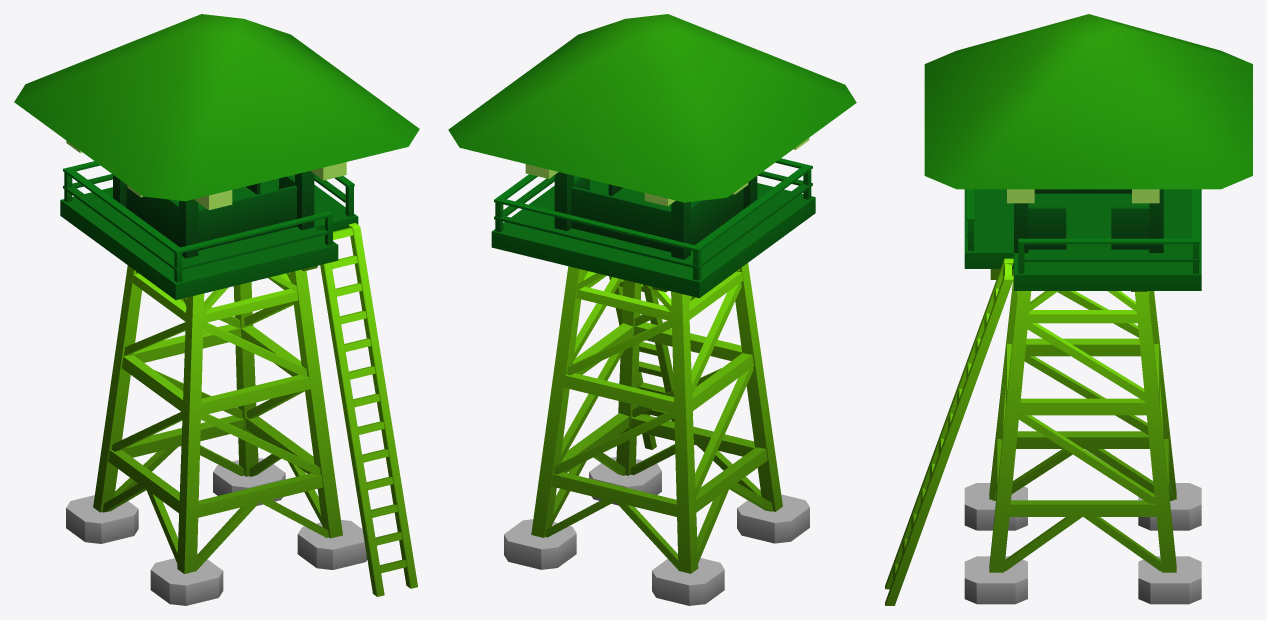
Rendered from Prop_Army_Watch_Tower_01.fbx.
3 views of the same model, side by side, from view 1: azimuth 30°, elevation 25°; view 2: azimuth 150°, elevation 25°; view 3: azimuth 270°, elevation 25° (orthographic). The views are drawn at different scales.
Parts seen in each view (by area): view 1: Prop_Army_Watch_Tower_01; view 2: Prop_Army_Watch_Tower_01; view 3: Prop_Army_Watch_Tower_01.
Part boxes in pixels (left/top/right/bottom): Prop_Army_Watch_Tower_01: left=14, top=14, right=419, bottom=605; Prop_Army_Watch_Tower_01: left=448, top=14, right=856, bottom=605; Prop_Army_Watch_Tower_01: left=885, top=14, right=1252, bottom=605.
Size of the model in its own units: 283 by 501 by 317.
